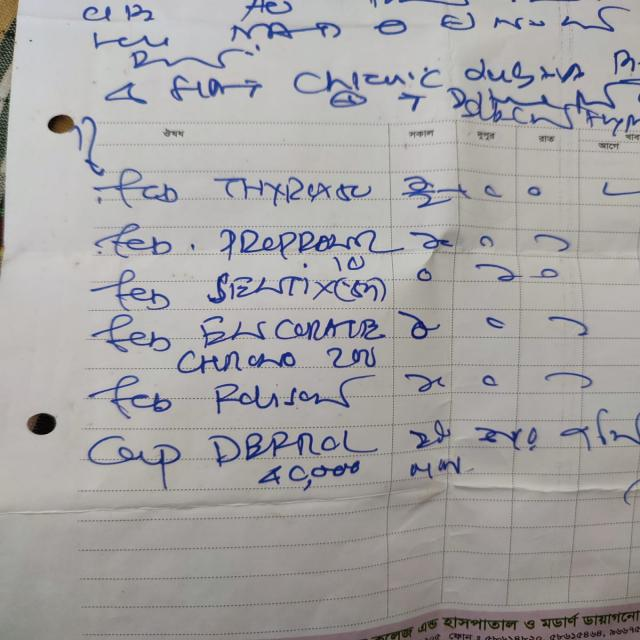Defrol: (195, 425, 372, 464)
Relise: (205, 376, 352, 414)
Sentix: (206, 269, 337, 302)
Thyrox: (207, 172, 334, 208)
